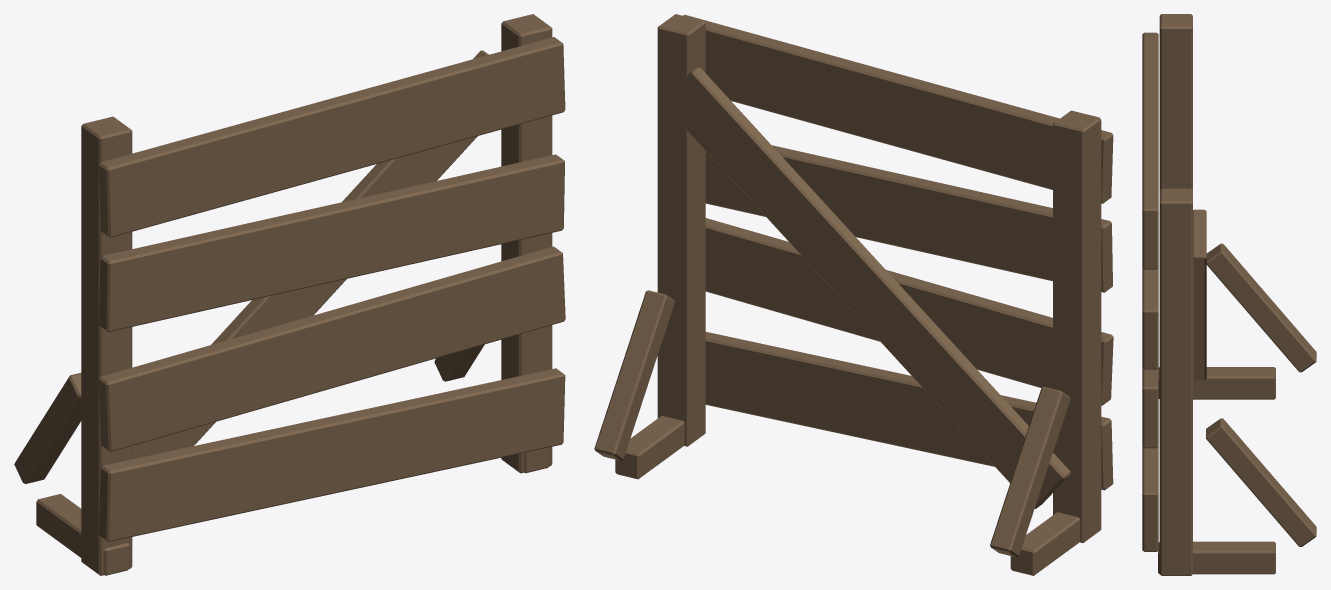
Rendered from Barricade.fbx.
3 views of the same model, side by side, from view 1: azimuth 30°, elevation 25°; view 2: azimuth 150°, elevation 25°; view 3: azimuth 270°, elevation 25° (orthographic). The views are drawn at different scales.
Parts seen in each view (by area): view 1: Barricade; view 2: Barricade; view 3: Barricade.
Boxes of the visible parts, x1,y1,x2,y2 form: Barricade: (14, 14, 565, 575); Barricade: (594, 14, 1113, 575); Barricade: (1142, 14, 1316, 575).
Size of the model in its own units: 123 by 112 by 47.19.
